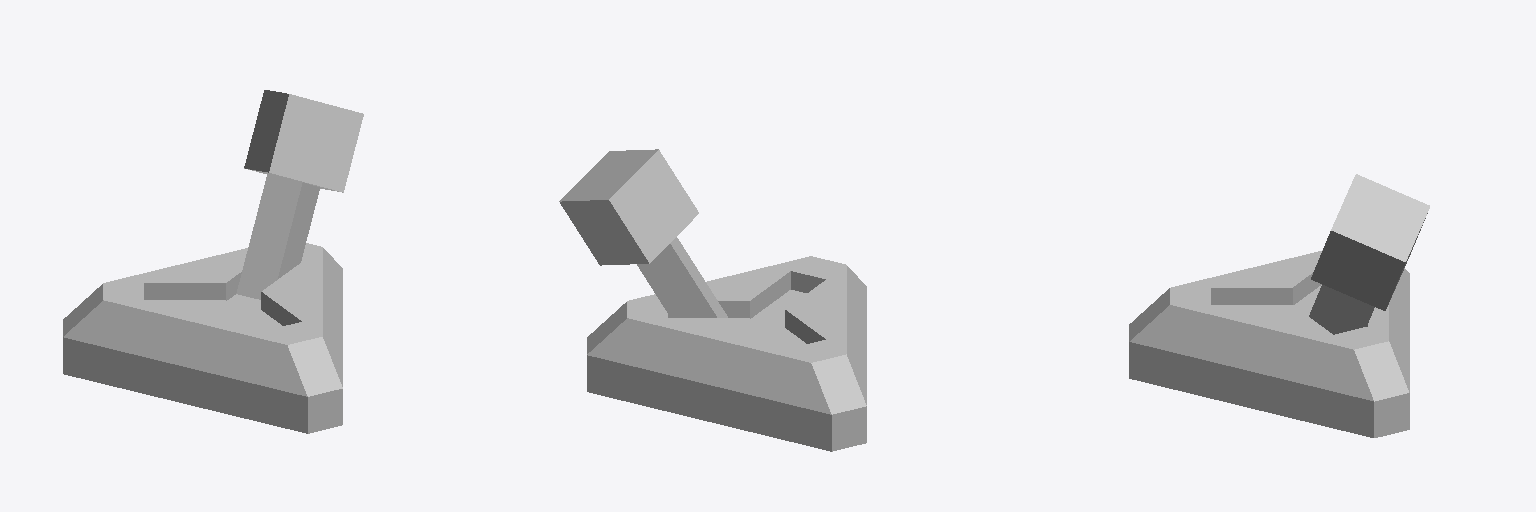
File: lever_4state_3.obj
3 renders of one model, left to right at view 1: azimuth 30°, elevation 25°; view 2: azimuth 150°, elevation 25°; view 3: azimuth 270°, elevation 25°, orthographic.
Parts seen in each view (by area): view 1: 4-STATE_Circle.005, LEVER_Cube.049; view 2: 4-STATE_Circle.005, LEVER_Cube.049; view 3: 4-STATE_Circle.005, LEVER_Cube.049.
Part boxes in pixels (bbox=[...]): 4-STATE_Circle.005: bbox=[63, 243, 342, 433]; LEVER_Cube.049: bbox=[236, 90, 363, 299]; 4-STATE_Circle.005: bbox=[587, 256, 866, 451]; LEVER_Cube.049: bbox=[559, 149, 727, 317]; 4-STATE_Circle.005: bbox=[1129, 250, 1409, 437]; LEVER_Cube.049: bbox=[1309, 174, 1429, 334].
Bounding box in the file's own units: 0.5175 × 0.396 × 0.4623.